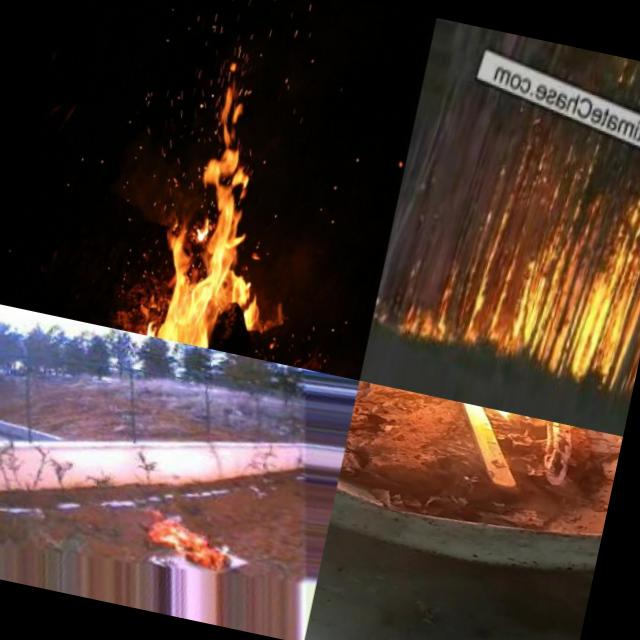fire: (130, 36, 330, 360), (384, 162, 640, 387), (131, 502, 252, 578)
